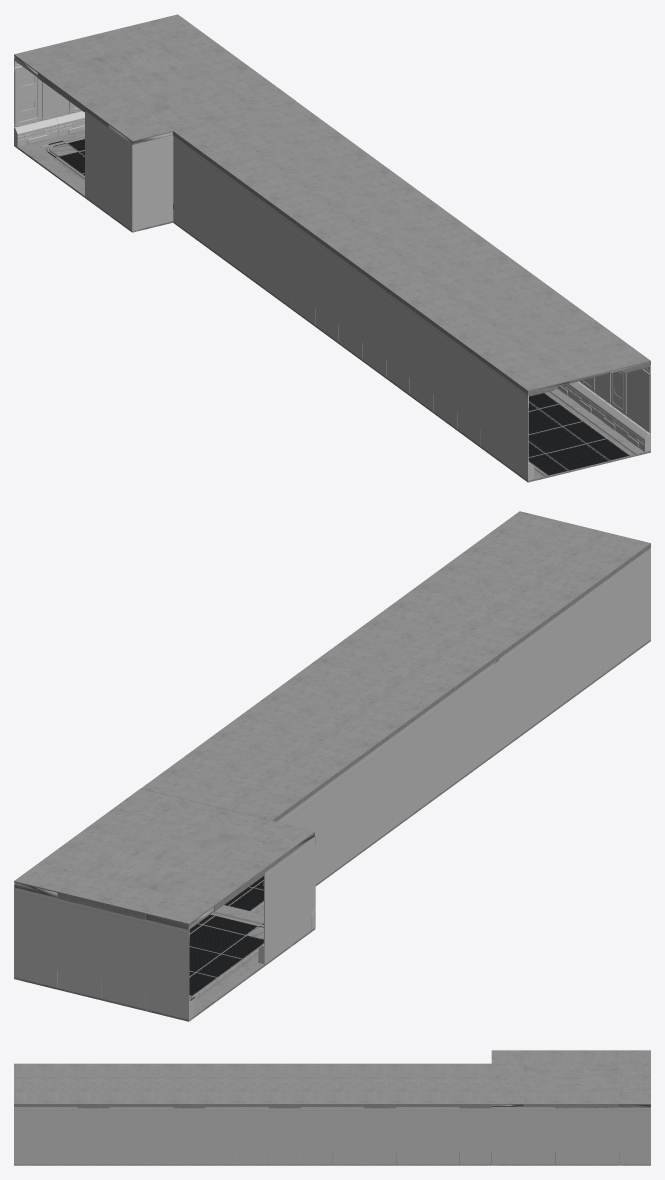
The model's file is Pasillo2Opti.fbx.
3 views of the same model, one above another, from view 1: azimuth 30°, elevation 25°; view 2: azimuth 150°, elevation 25°; view 3: azimuth 270°, elevation 25° (orthographic). The views are drawn at different scales.
Parts seen in each view (by area): view 1: SM_Ceiling_Center__1_, SM_Wall_AA__1_, SM_Floor_Center__1_; view 2: SM_Ceiling_Center__1_, SM_Wall_AA__1_, SM_Floor_Center__1_; view 3: SM_Wall_AA__1_, SM_Ceiling_Center__1_, SM_Floor_Center__1_.
Part boxes in pixels (x1,y1,x2,y2): SM_Ceiling_Center__1_: (14,14,650,396); SM_Wall_AA__1_: (14,59,650,480); SM_Floor_Center__1_: (14,130,650,482); SM_Ceiling_Center__1_: (14,511,650,929); SM_Wall_AA__1_: (14,548,650,1019); SM_Floor_Center__1_: (14,639,650,1021); SM_Wall_AA__1_: (14,1107,650,1164); SM_Ceiling_Center__1_: (14,1050,650,1108); SM_Floor_Center__1_: (14,1164,650,1165).
Size of the model in its own units: 80.1 by 42.8 by 400.
